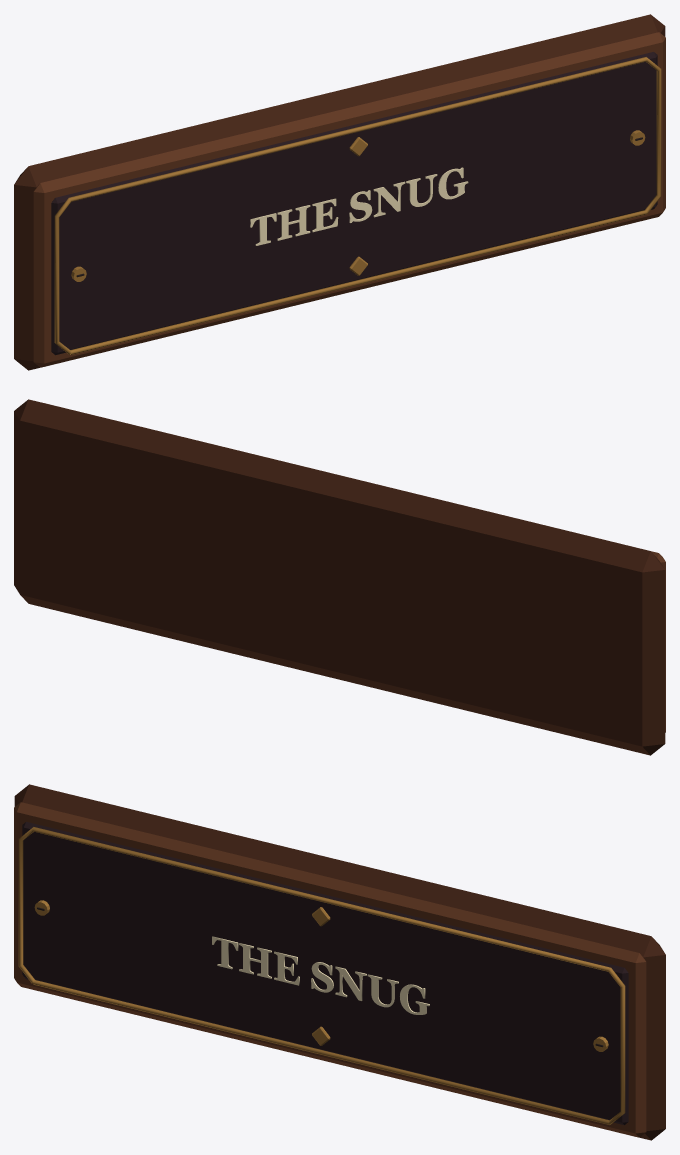
The model's file is SnugRoomSign.glb.
3 views of the same model, one above another, from view 1: azimuth 30°, elevation 25°; view 2: azimuth 150°, elevation 25°; view 3: azimuth 330°, elevation 25° (orthographic).
Visible parts, largest first — view 1: DarkEnamelInset, RaisedOakBorder, CarvedOakPlaque, BrassOutline, IvorySerifLettering; view 2: CarvedOakPlaque; view 3: DarkEnamelInset, RaisedOakBorder, CarvedOakPlaque, BrassOutline, IvorySerifLettering.
Boxes of the visible parts, left/top/right/bottom form: DarkEnamelInset: left=51, top=52, right=657, bottom=355; RaisedOakBorder: left=33, top=32, right=665, bottom=367; CarvedOakPlaque: left=14, top=14, right=665, bottom=370; BrassOutline: left=54, top=57, right=661, bottom=354; IvorySerifLettering: left=250, top=167, right=468, bottom=245; CarvedOakPlaque: left=14, top=399, right=665, bottom=755; DarkEnamelInset: left=22, top=822, right=628, bottom=1125; RaisedOakBorder: left=14, top=802, right=646, bottom=1137; CarvedOakPlaque: left=14, top=784, right=665, bottom=1140; BrassOutline: left=18, top=827, right=625, bottom=1124; IvorySerifLettering: left=212, top=936, right=429, bottom=1014.
Size of the model in its own units: 4.5 by 1.35 by 0.346.
